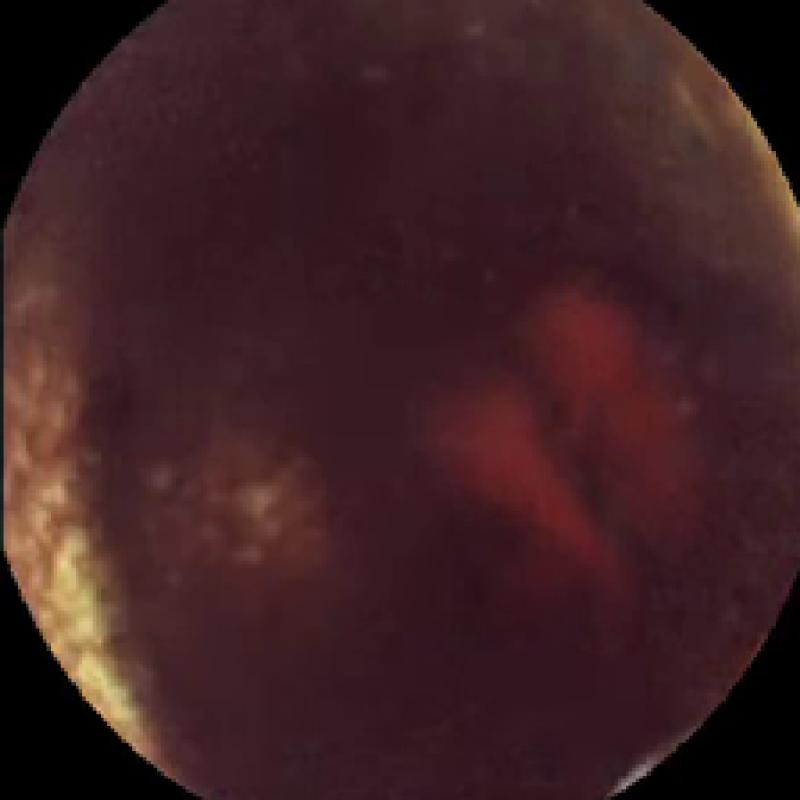bleeding: (414, 268, 729, 646)
